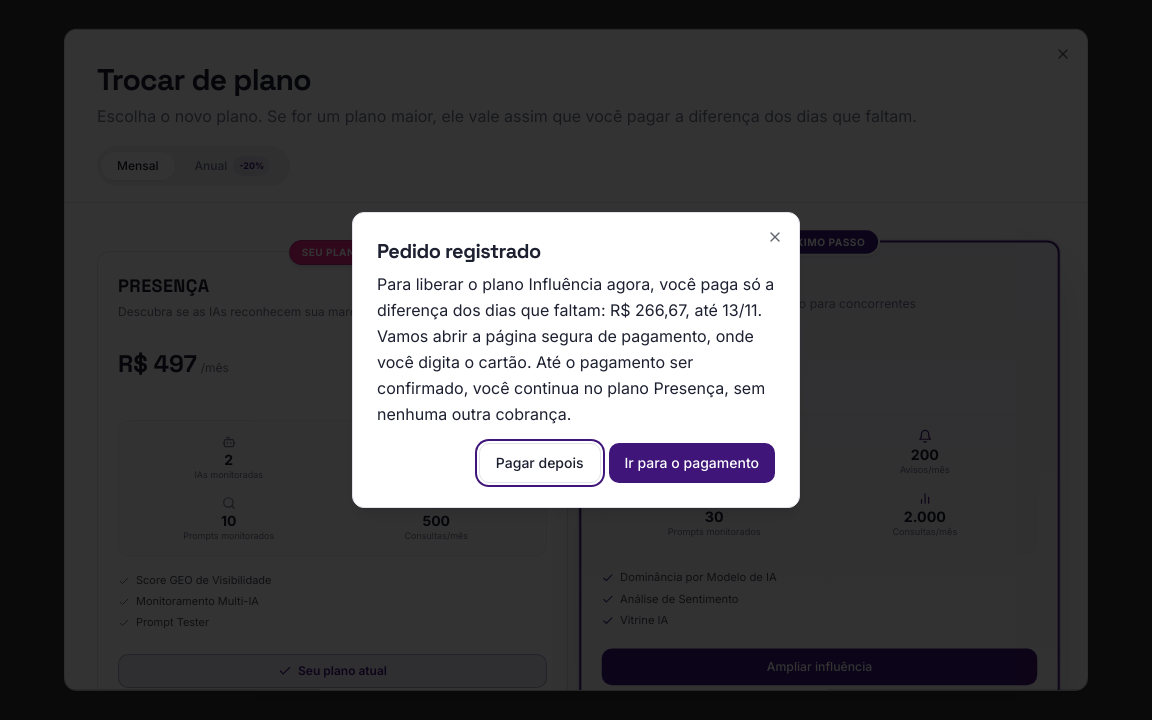
Test: pending_payment → diálogo de confirmação › (a,b) não abre a fatura sozinho, sem toast antigo, mostra título/valor/data
Earlier steps of the test are not shown.
Check: the heading "Pedido registrado" is shown, box [377,238,541,264]
Check: the text "Para liberar o plano Influência agora, você paga só a diferença dos dias que faltam: R$ 266,67, até 13/11." is shown, box [377,271,775,427]
Click the button "Ir para o pagamento": (692,463) [608,443,775,483]
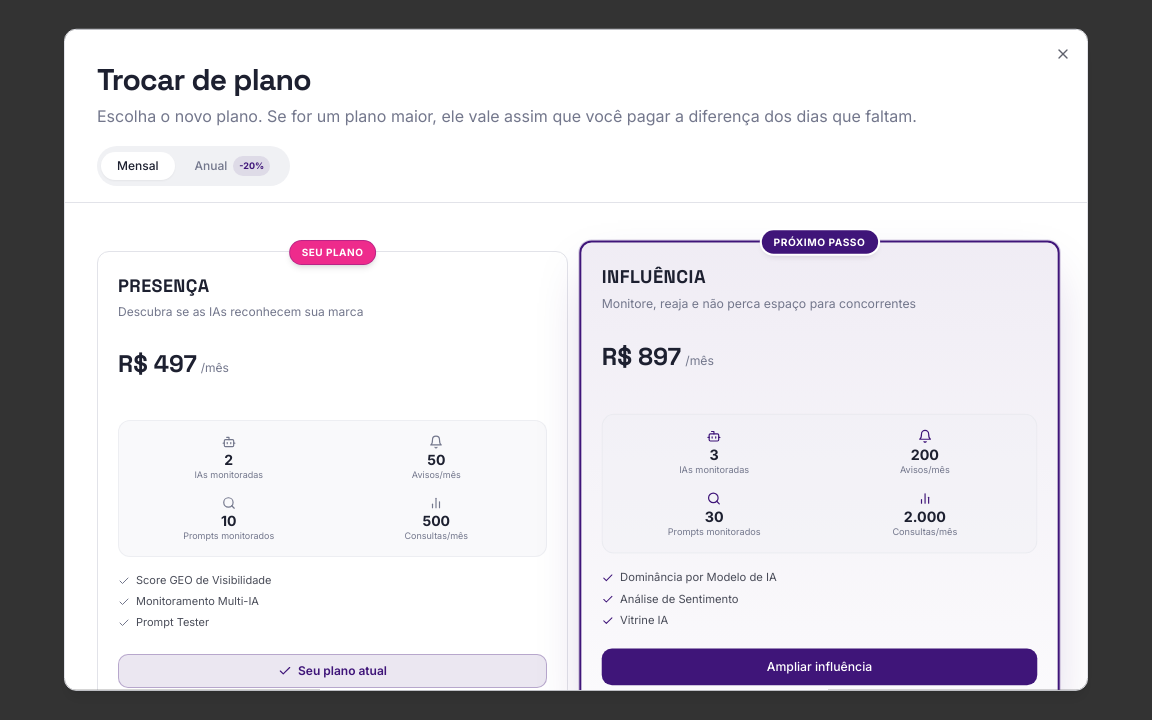
Check: the heading "Pedido registrado" is gone
